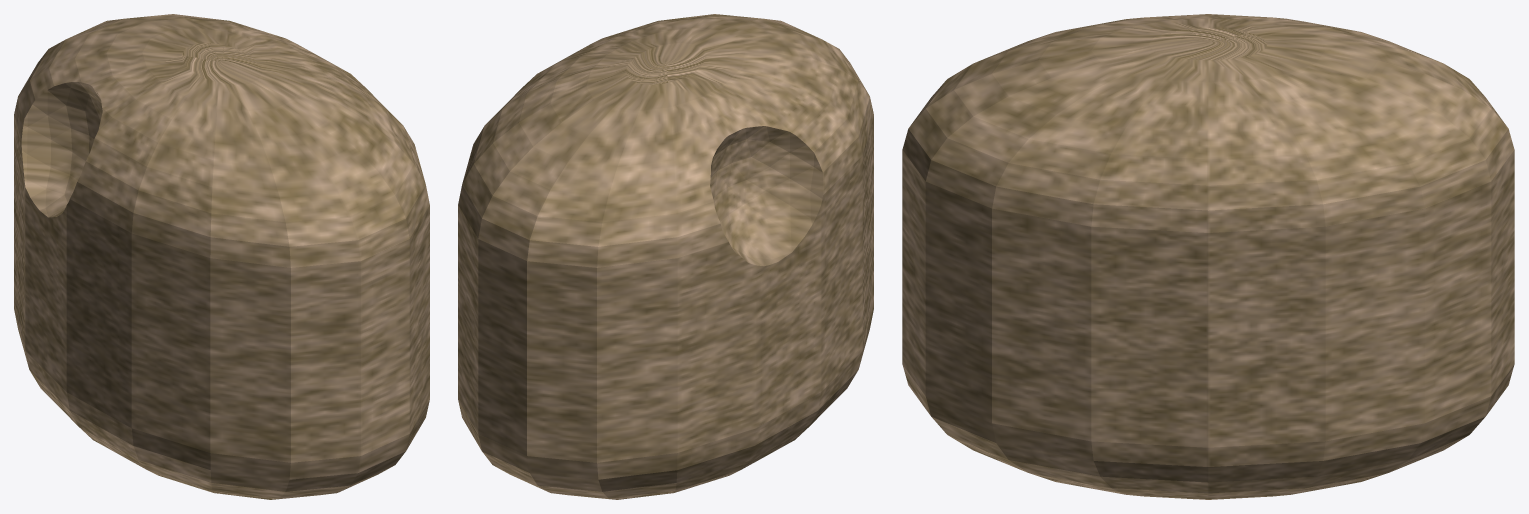
3 renders of one model, left to right at view 1: azimuth 30°, elevation 25°; view 2: azimuth 150°, elevation 25°; view 3: azimuth 270°, elevation 25°, orthographic. The views are drawn at different scales.
Parts seen in each view (by area): view 1: geometry_0; view 2: geometry_0; view 3: geometry_0.
Boxes of the visible parts, x1,y1,x2,y2 form: geometry_0: [14, 14, 429, 499]; geometry_0: [458, 14, 873, 499]; geometry_0: [902, 14, 1514, 499].
Bounding box in the file's own units: 0.5794 × 0.6953 × 0.898.
1 material, 1 textured.
